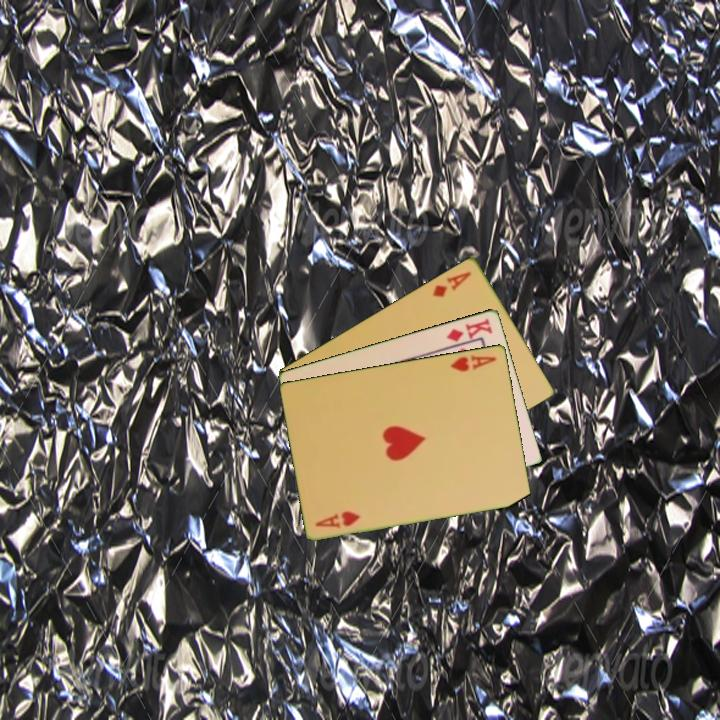Ad: (429, 267, 474, 300)
Ah: (312, 507, 363, 531), (447, 351, 499, 374)
Kd: (443, 314, 495, 344)
